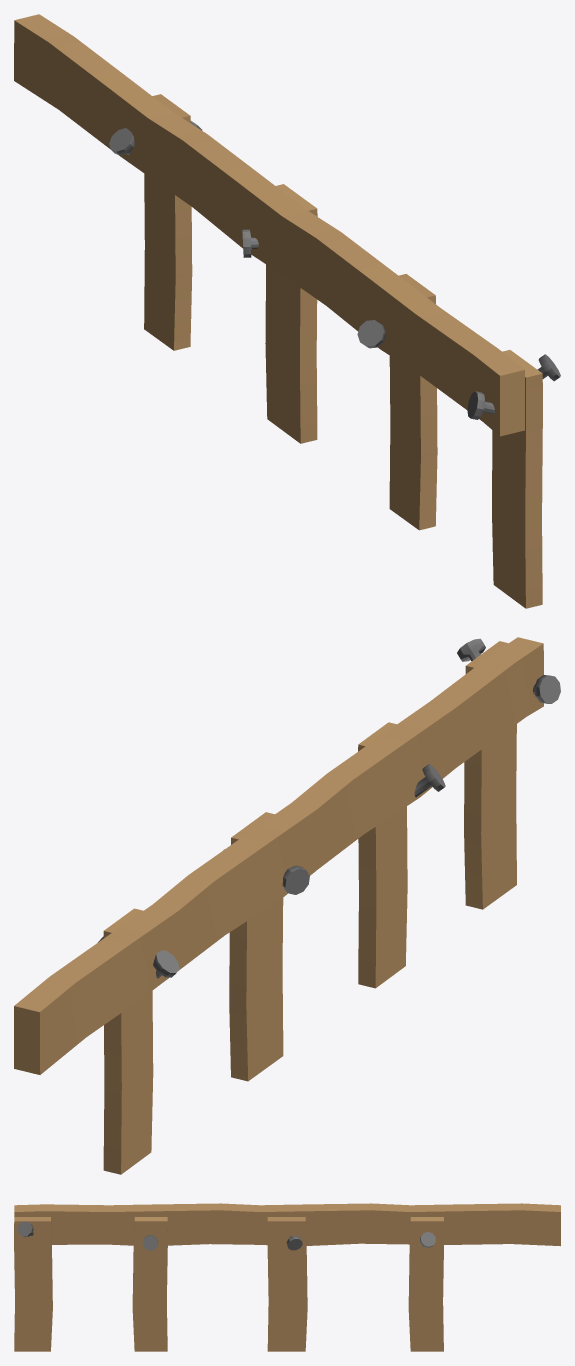
The model's file is SM_PlankRailing 1.fbx.
3 views of the same model, one above another, from view 1: azimuth 30°, elevation 25°; view 2: azimuth 150°, elevation 25°; view 3: azimuth 270°, elevation 25° (orthographic). The views are drawn at different scales.
Parts seen in each view (by area): view 1: PlankRailing; view 2: PlankRailing; view 3: PlankRailing.
Boxes of the visible parts, x1=… form: PlankRailing: x1=14, y1=14, x2=560, y2=608; PlankRailing: x1=14, y1=637, x2=560, y2=1174; PlankRailing: x1=14, y1=1203, x2=560, y2=1351.
Bounding box in the file's own units: 43.99 × 110 × 400.
